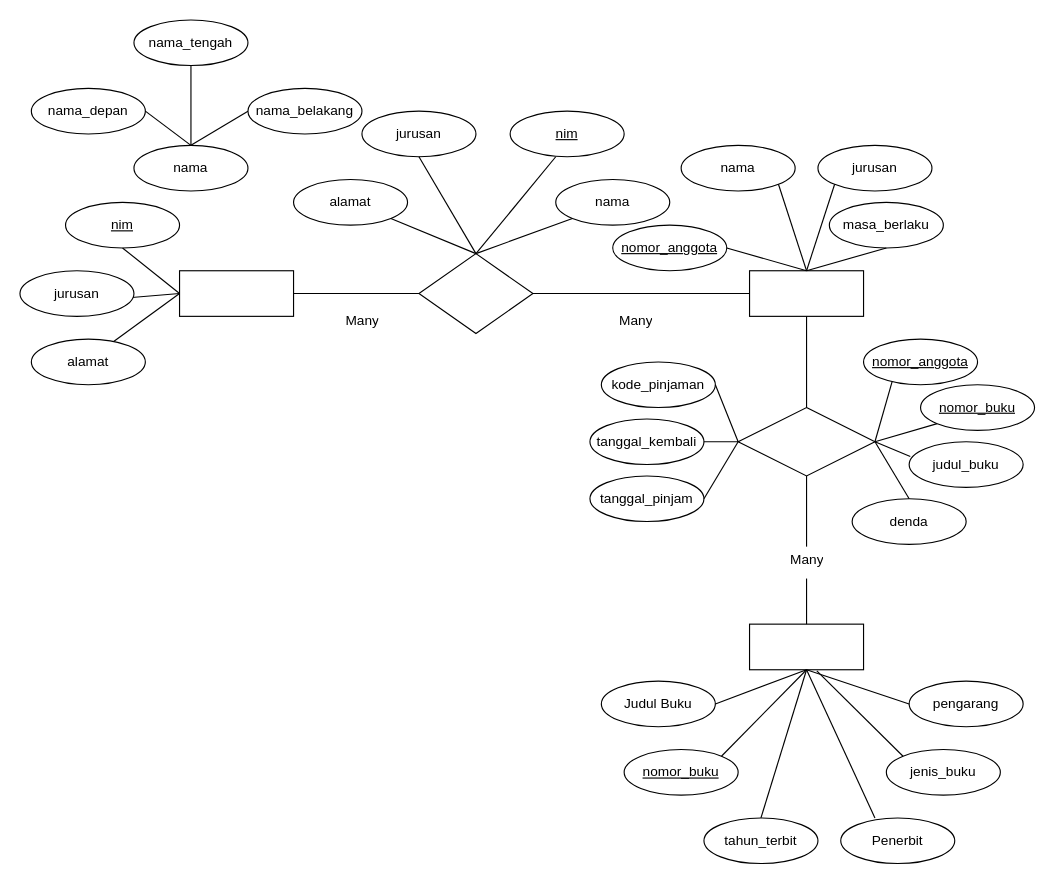
Some shapes in this 1055 by 884 pixel diagram are drawn without their labels. Each missing label, with the centre of its shape:
Anggota perpustakaan: [806,293]
Buku: [806,646]
Mahasiswa: [236,293]
Meminjam: [806,441]
Mendaftar: [475,293]
